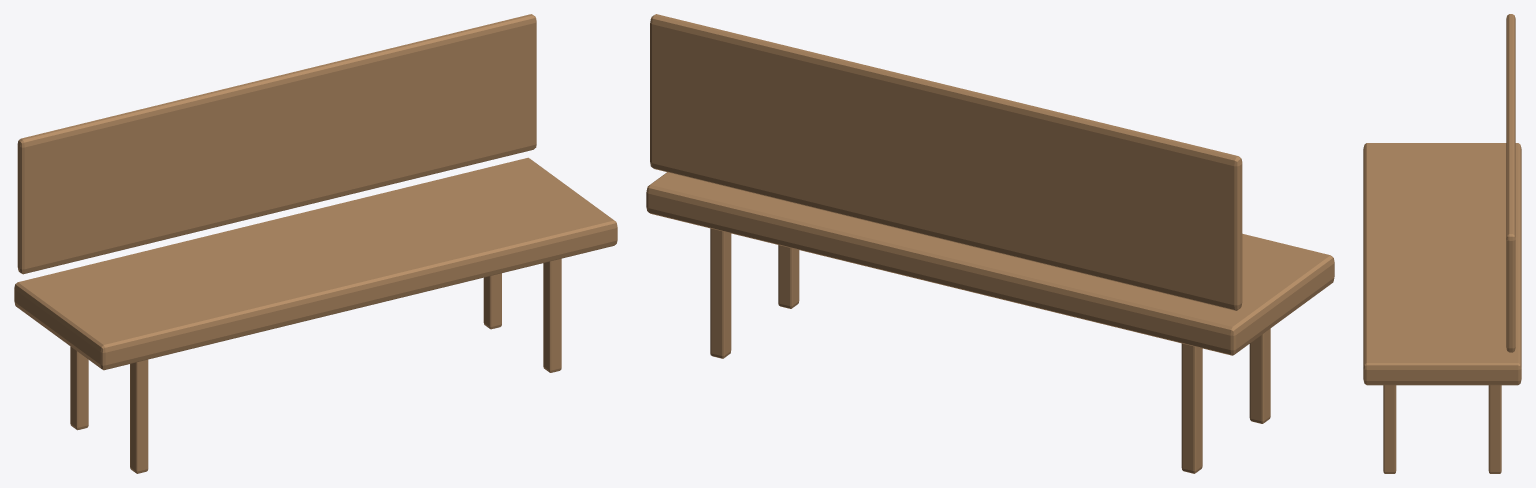
The picture shows the model from 3 angles, left to right: view 1: azimuth 30°, elevation 25°; view 2: azimuth 150°, elevation 25°; view 3: azimuth 270°, elevation 25°; orthographic projection. The views are drawn at different scales.
Visible parts, largest first — view 1: Deco bench; view 2: Deco bench; view 3: Deco bench.
Boxes of the visible parts, left/top/right/bottom form: Deco bench: left=14, top=14, right=617, bottom=473; Deco bench: left=646, top=14, right=1334, bottom=473; Deco bench: left=1363, top=14, right=1521, bottom=473.
Size of the model in its own units: 2.31 by 1.25 by 0.6917.
